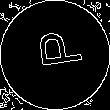P_W: (27, 33, 83, 77)
